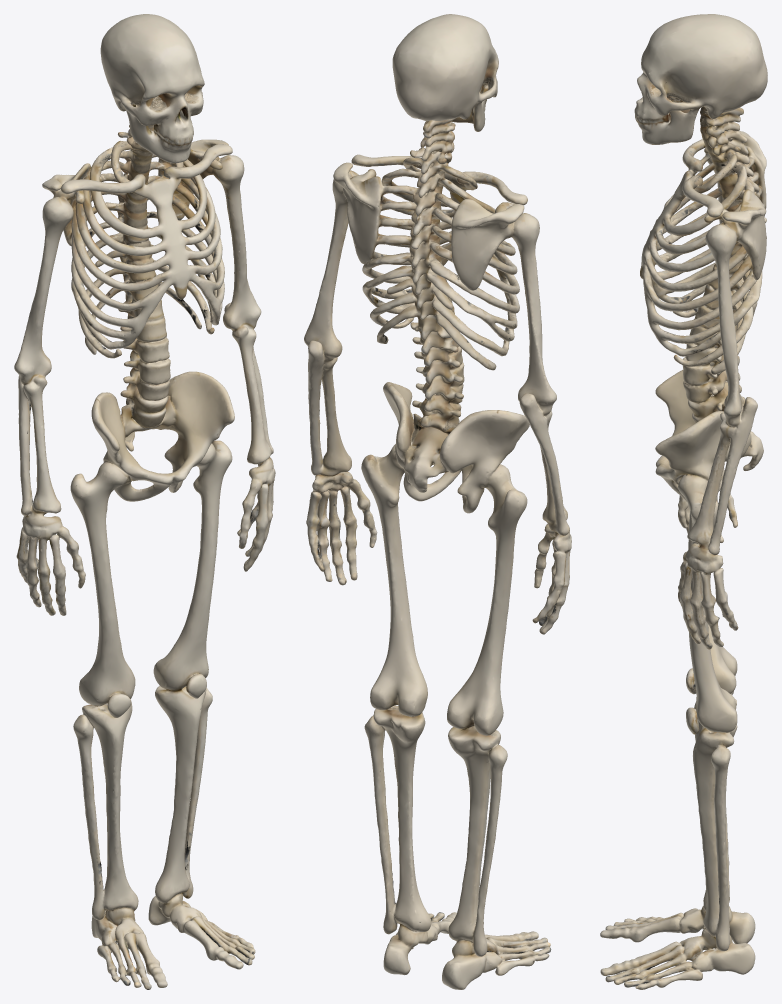
Rendered from rangka-manusia.glb.
The picture shows the model from 3 angles, left to right: view 1: azimuth 30°, elevation 25°; view 2: azimuth 150°, elevation 25°; view 3: azimuth 270°, elevation 25°; orthographic projection. The views are drawn at different scales.
Size of the model in its own units: 0.5434 by 1.9 by 0.3085.
Materials: 1 (1 with a texture image).
